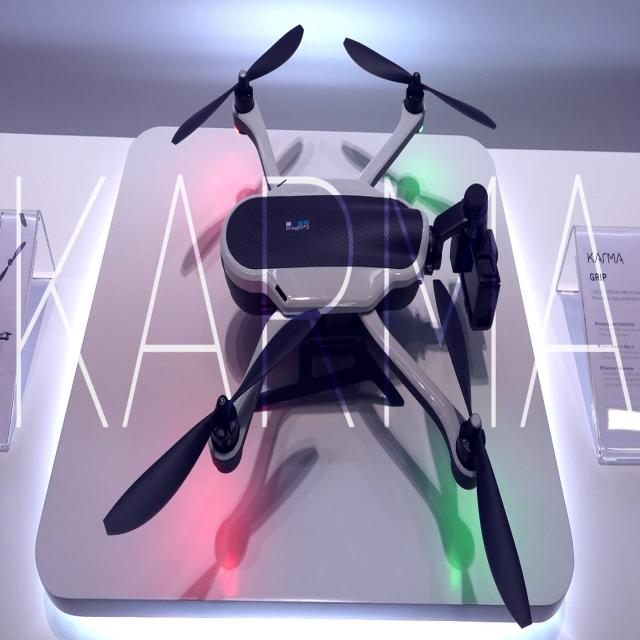drone: (130, 34, 545, 632)
